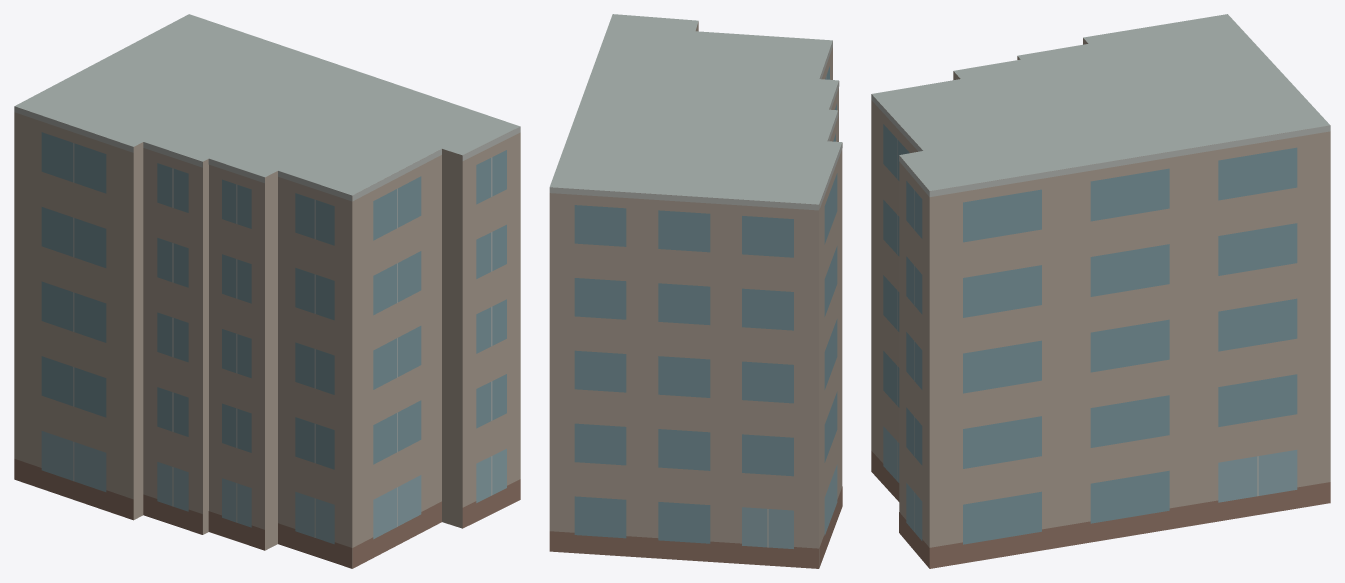
Rendered from survey-upis-33000433.glb.
3 renders of one model, left to right at view 1: azimuth 30°, elevation 25°; view 2: azimuth 150°, elevation 25°; view 3: azimuth 270°, elevation 25°, orthographic. The views are drawn at different scales.
Visible parts, largest first — view 1: survey-upis-33000433.tmp; view 2: survey-upis-33000433.tmp; view 3: survey-upis-33000433.tmp.
Part boxes in pixels (left/top/right/bottom): survey-upis-33000433.tmp: left=14, top=14, right=520, bottom=568; survey-upis-33000433.tmp: left=549, top=14, right=842, bottom=568; survey-upis-33000433.tmp: left=871, top=14, right=1330, bottom=568.
Bounding box in the file's own units: 15.35 × 15.25 × 16.81.
